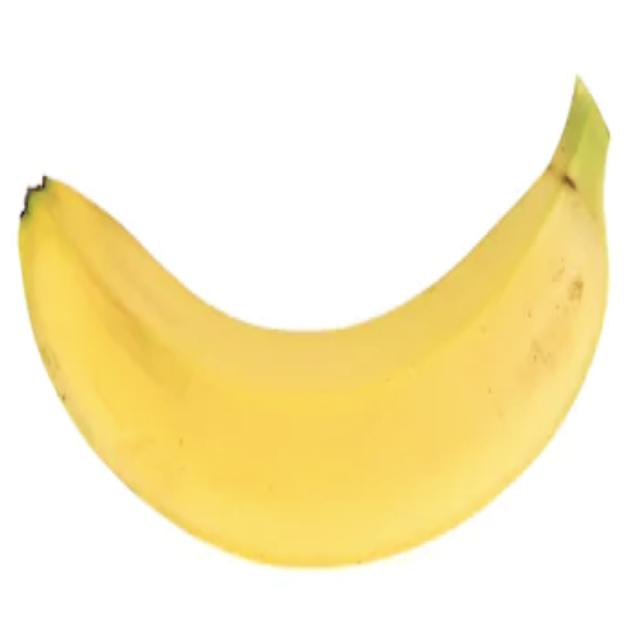fresh-banana: (17, 71, 611, 569)
